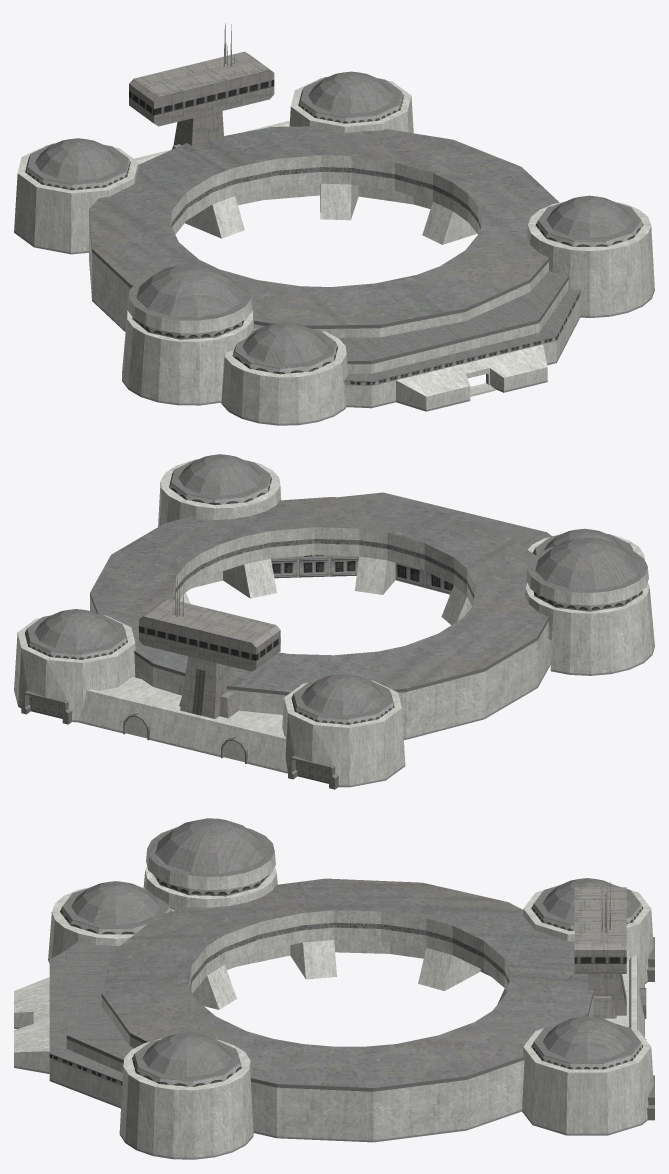
File: mun_corl_starport_s01_u01_r0_mesh_l1.fbx
3 renders of one model, top to bottom at view 1: azimuth 30°, elevation 25°; view 2: azimuth 150°, elevation 25°; view 3: azimuth 270°, elevation 25°, orthographic. The views are drawn at different scales.
Parts seen in each view (by area): view 1: mesh_node; view 2: mesh_node; view 3: mesh_node.
Boxes of the visible parts, x1=… form: mesh_node: x1=14, y1=23, x2=654, y2=425; mesh_node: x1=14, y1=454, x2=654, y2=789; mesh_node: x1=14, y1=818, x2=654, y2=1159.
Size of the model in its own units: 151 by 47.84 by 160.
